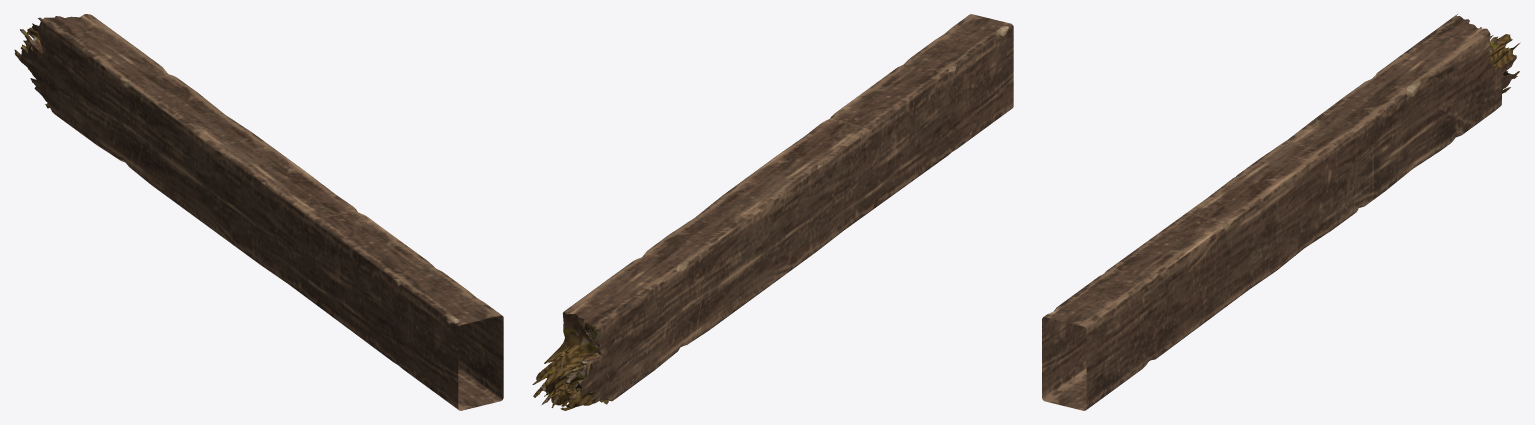
Rendered from SM_Wood_02.fbx.
3 renders of one model, left to right at view 1: azimuth 30°, elevation 25°; view 2: azimuth 150°, elevation 25°; view 3: azimuth 330°, elevation 25°, orthographic.
Parts seen in each view (by area): view 1: SM_Wood_02_LOD0; view 2: SM_Wood_02_LOD0; view 3: SM_Wood_02_LOD0.
Part boxes in pixels (<box>): SM_Wood_02_LOD0: <box>14,14,503,410</box>; SM_Wood_02_LOD0: <box>532,14,1013,410</box>; SM_Wood_02_LOD0: <box>1042,14,1520,410</box>.
Bounding box in the file's own units: 24.31 × 424 × 44.09.
